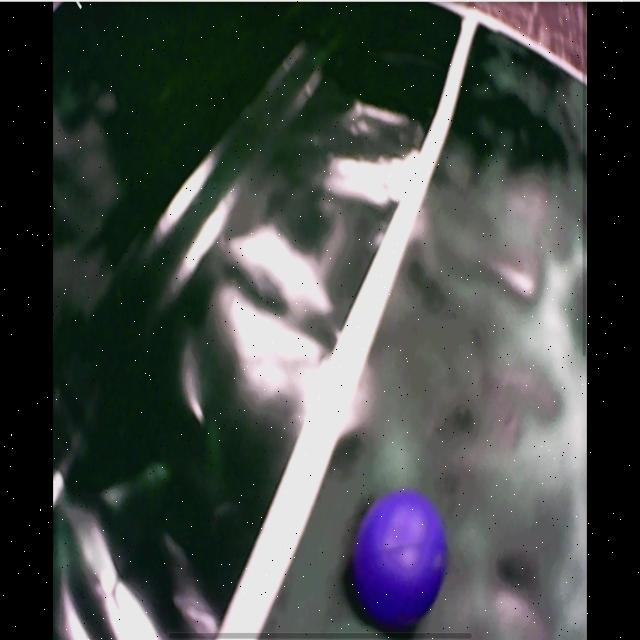ball: (356, 490, 447, 626)
